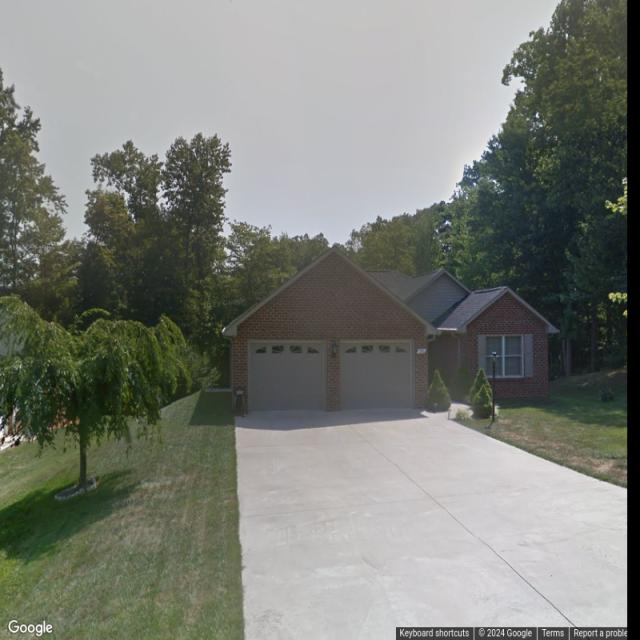House: (222, 249, 558, 412)
